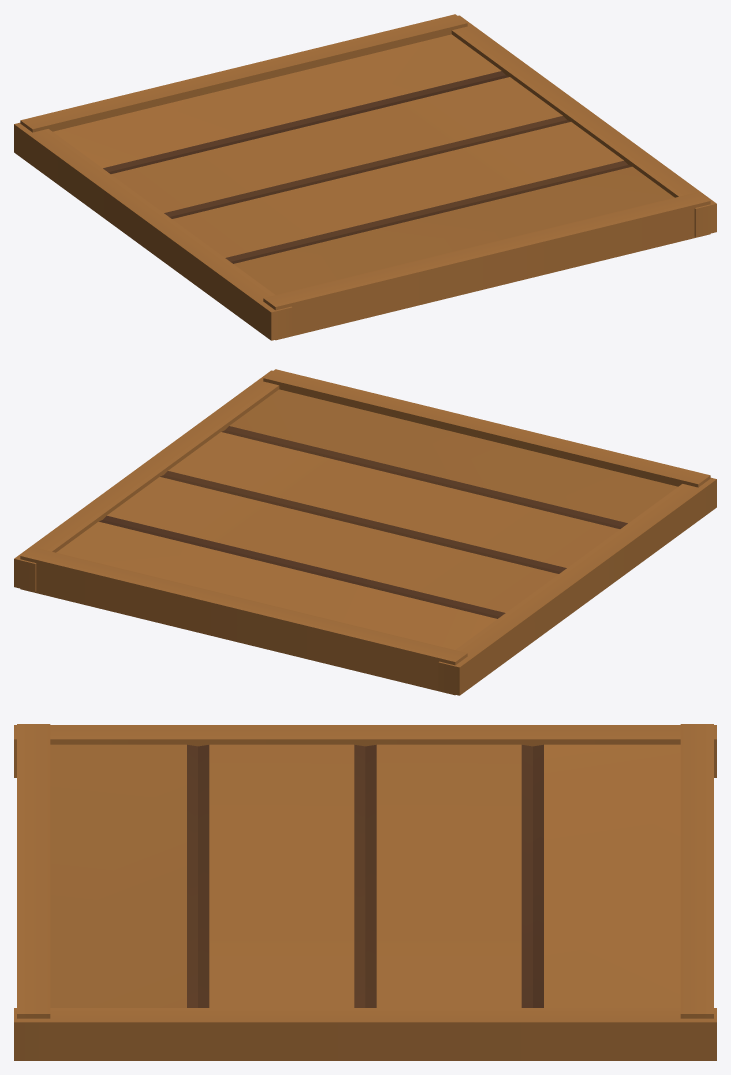
Rendered from Roof_Wood_Flat_01.fbx.
3 views of the same model, one above another, from view 1: azimuth 30°, elevation 25°; view 2: azimuth 150°, elevation 25°; view 3: azimuth 270°, elevation 25° (orthographic). The views are drawn at different scales.
Visible parts, largest first — view 1: Roof_Wood_Flat_01, Roof_Wood_Flat_01.002, Roof_Wood_Flat_01.001; view 2: Roof_Wood_Flat_01, Roof_Wood_Flat_01.002, Roof_Wood_Flat_01.001; view 3: Roof_Wood_Flat_01, Roof_Wood_Flat_01.001, Roof_Wood_Flat_01.002.
Boxes of the visible parts, x1=… form: Roof_Wood_Flat_01: x1=53, y1=34, x2=674, y2=294; Roof_Wood_Flat_01.002: x1=20, y1=14, x2=710, y2=340; Roof_Wood_Flat_01.001: x1=14, y1=15, x2=716, y2=340; Roof_Wood_Flat_01: x1=56, y1=389, x2=677, y2=649; Roof_Wood_Flat_01.002: x1=20, y1=369, x2=710, y2=695; Roof_Wood_Flat_01.001: x1=14, y1=370, x2=716, y2=695; Roof_Wood_Flat_01: x1=50, y1=744, x2=680, y2=1007; Roof_Wood_Flat_01.001: x1=14, y1=725, x2=716, y2=1060; Roof_Wood_Flat_01.002: x1=17, y1=724, x2=713, y2=1018.
Bounding box in the file's own units: 4.2 × 0.3 × 4.2.
